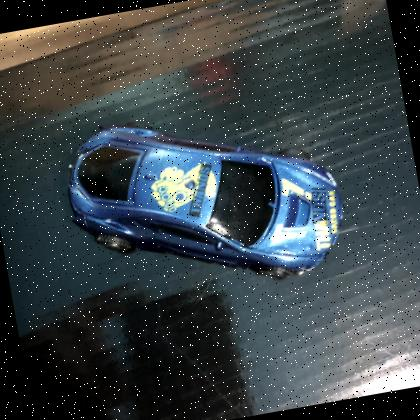Car: (54, 84, 358, 316)
